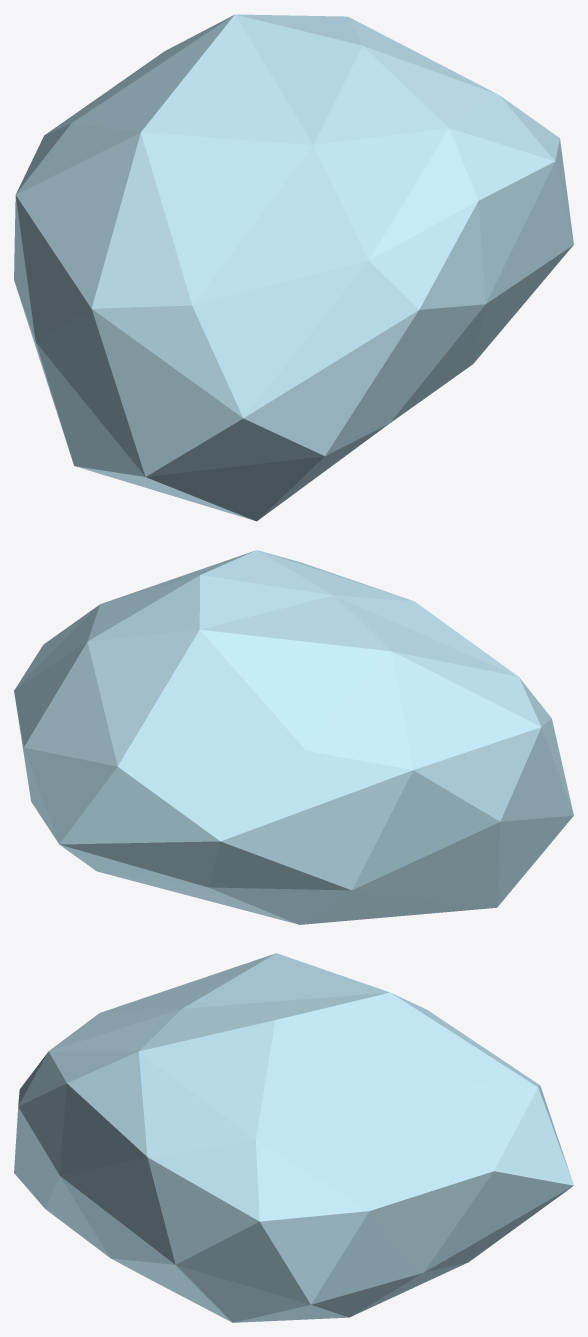
The model's file is bulut2.fbx.
3 renders of one model, top to bottom at view 1: azimuth 30°, elevation 25°; view 2: azimuth 150°, elevation 25°; view 3: azimuth 270°, elevation 25°, orthographic. The views are drawn at different scales.
Visible parts, largest first — view 1: Icosphere.001; view 2: Icosphere.001; view 3: Icosphere.001.
Part boxes in pixels (x1=…): Icosphere.001: x1=14, y1=14, x2=573, y2=521; Icosphere.001: x1=14, y1=550, x2=573, y2=924; Icosphere.001: x1=14, y1=953, x2=573, y2=1322.
Bounding box in the file's own units: 285 × 179 × 293.
